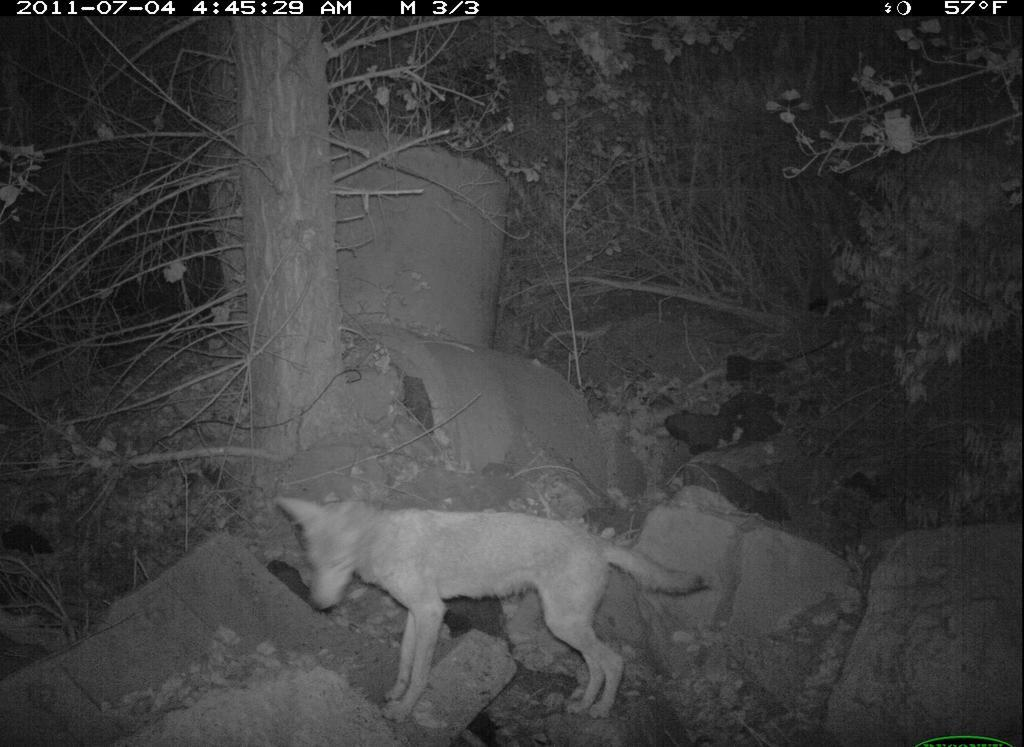coyote: (269, 469, 717, 726)
